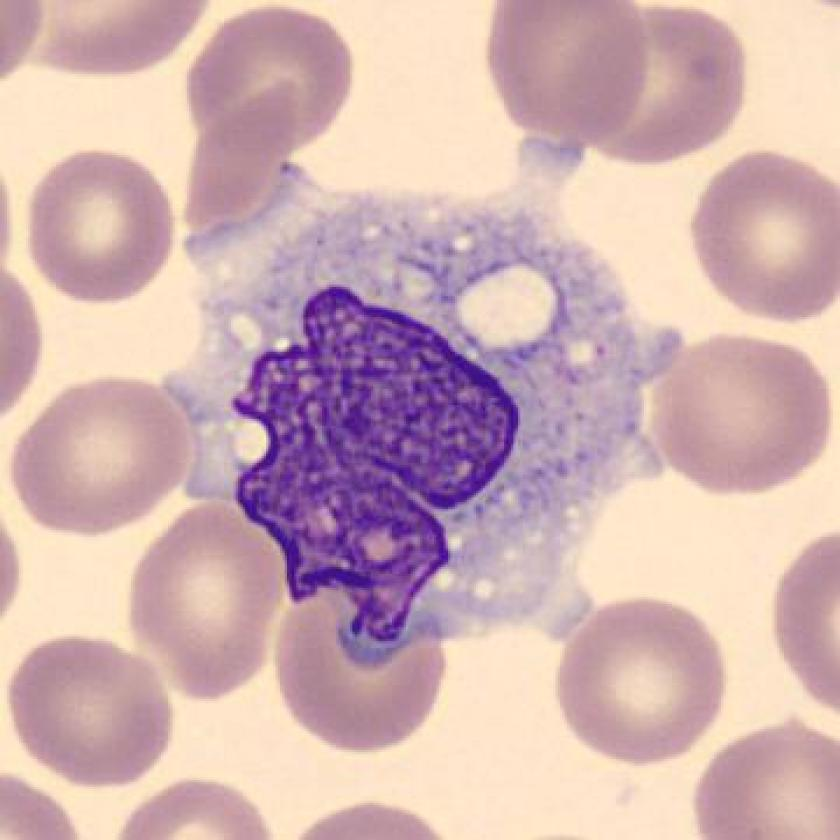monocyte: (153, 114, 692, 684)
